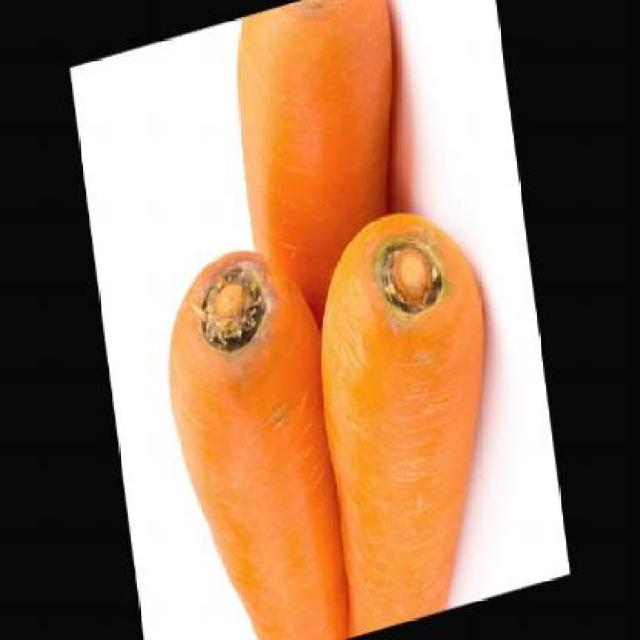carrot: (298, 189, 519, 636), (154, 230, 360, 638), (223, 0, 428, 354)
